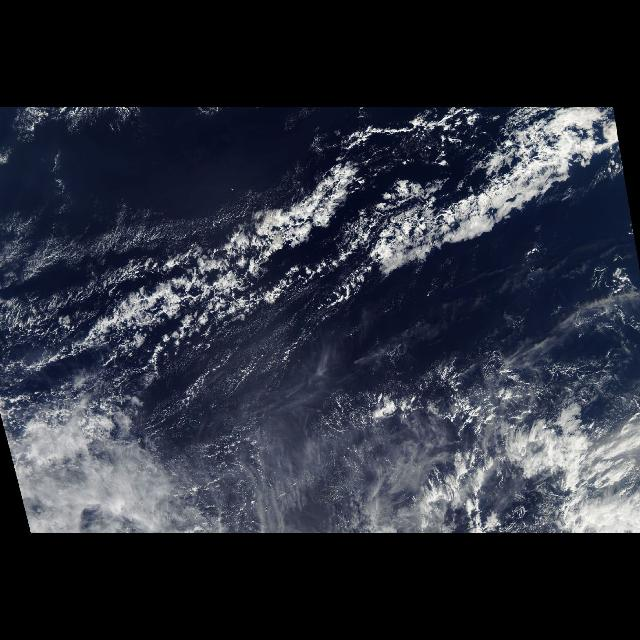Fish: (30, 121, 610, 387)
